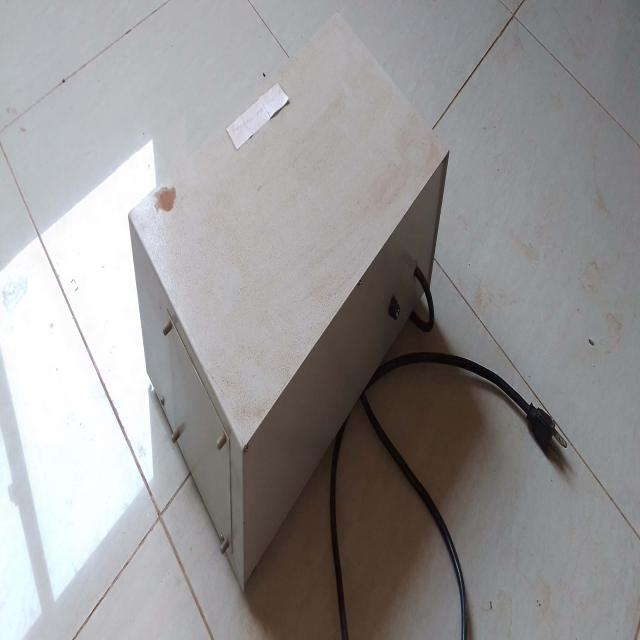Frank-Hertz Experiment Apparatus: (126, 25, 456, 562)
